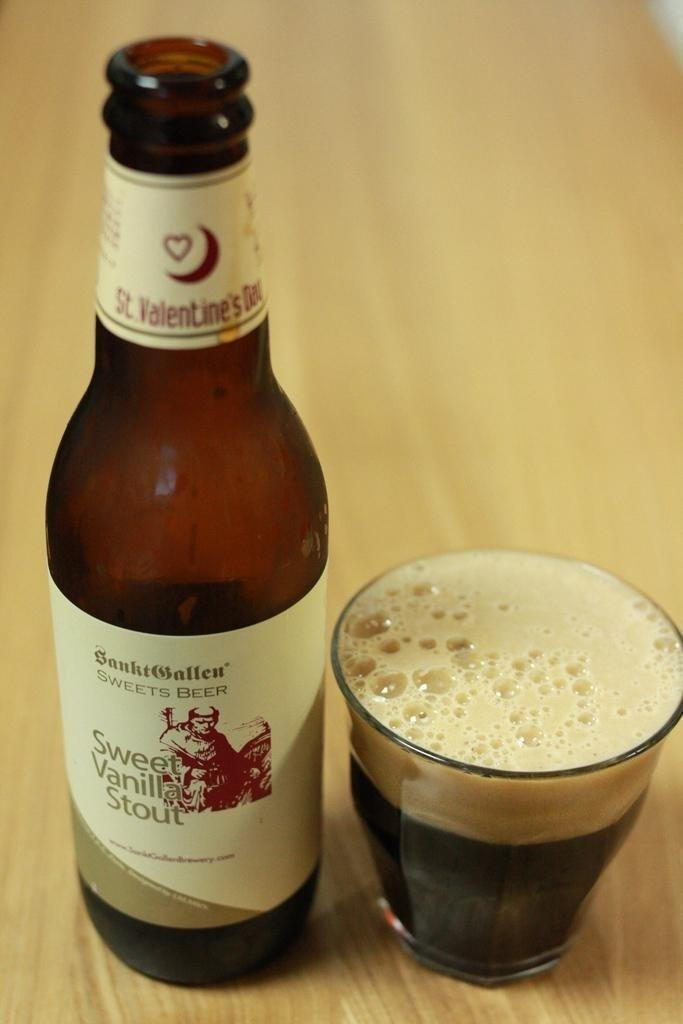bottle-glass: (43, 30, 347, 982)
glass-normal: (332, 544, 682, 995)
